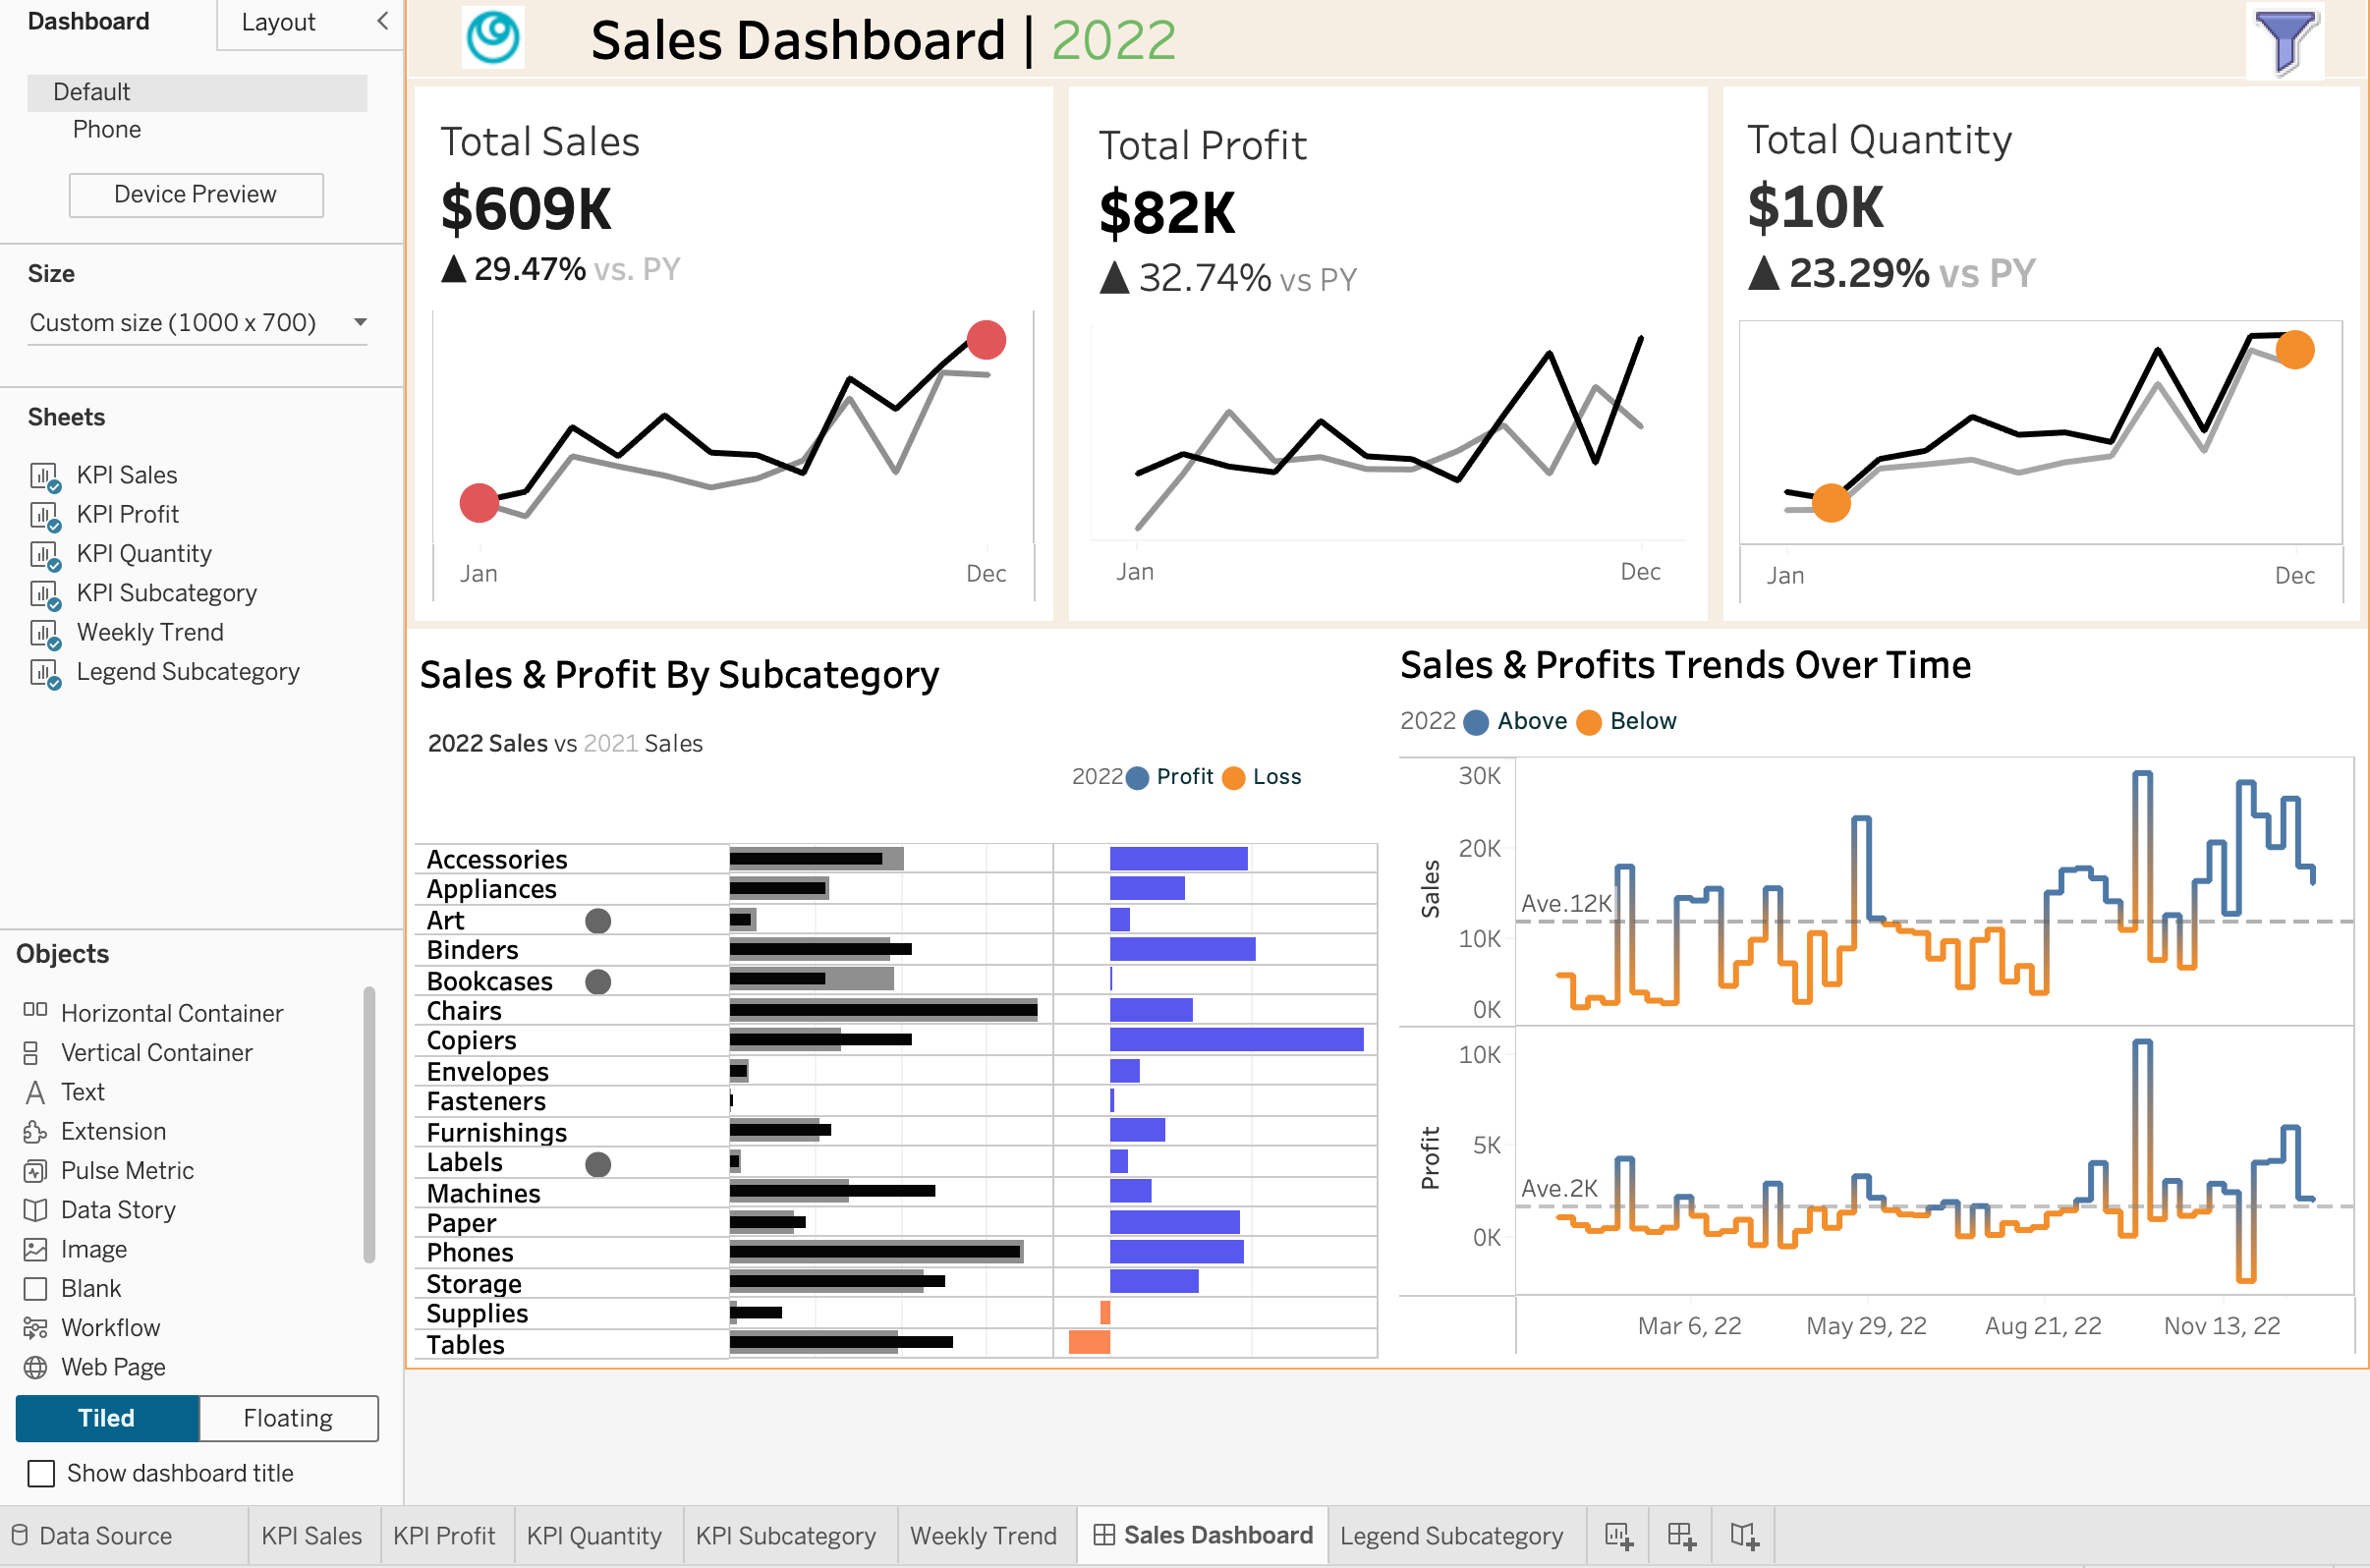

The dashboard page shown, as its layout file describes it:
{"tool":"tableau","page":{"name":"Sales Dashboard","canvas":[1000,700],"ordinal":0},"visuals":[{"type":"image","param":"Image/fibonacci-circles.jpg","box":[2,2,86,40]},{"type":"text","box":[88,2,910,40]},{"type":"dashboard-object","box":[922,4,70,40]},{"type":"worksheet","title":"KPI Sales","mark":"Automatic","rows":["Calculation_891501644715675652"],"cols":["Order Date"],"box":[1,43,333,280]},{"type":"worksheet","title":"KPI Profit","mark":"Line","cols":["Order Date"],"box":[334,43,333,280]},{"type":"worksheet","title":"KPI Quantity","mark":"Automatic","rows":["Min/Max Sales (copy)_891501645071990815"],"cols":["Order Date"],"box":[667,43,332,280]},{"type":"text","box":[1,323,499,45]},{"type":"text","box":[500,323,499,34]},{"type":"text","box":[500,357,499,25]},{"type":"worksheet","title":"Legend Subcategory","mark":"Automatic","box":[1,368,332,60]},{"type":"text","box":[333,368,167,60]},{"type":"worksheet","title":"Weekly Trend","mark":"Automatic","rows":["Calculation_891501644702752768","Calculation_891501644753985549"],"cols":["Order Date"],"box":[500,382,499,317]},{"type":"worksheet","title":"KPI Subcategory","mark":"Bar","rows":["Sub-Category","Calculation_891501645192065059"],"cols":["CY Sales (copy)_891501644703604737","Calculation_891501644702752768","Calculation_891501644753985549"],"box":[1,428,499,271]}]}

Visuals, with their boxes on the page's 1000x700 design canvas (x1, y1, x2, y2). These are canvas units, not pixel positions in the 2370x1568 screenshot, which may show the page scaled, cropped or inside an application window:
image: 2:2:88:42
text: 88:2:998:42
dashboard-object: 922:4:992:44
"KPI Sales" worksheet: 1:43:334:323
"KPI Profit" worksheet (Line marks): 334:43:667:323
"KPI Quantity" worksheet: 667:43:999:323
text: 1:323:500:368
text: 500:323:999:357
text: 500:357:999:382
"Legend Subcategory" worksheet: 1:368:333:428
text: 333:368:500:428
"Weekly Trend" worksheet: 500:382:999:699
"KPI Subcategory" worksheet (Bar marks): 1:428:500:699
